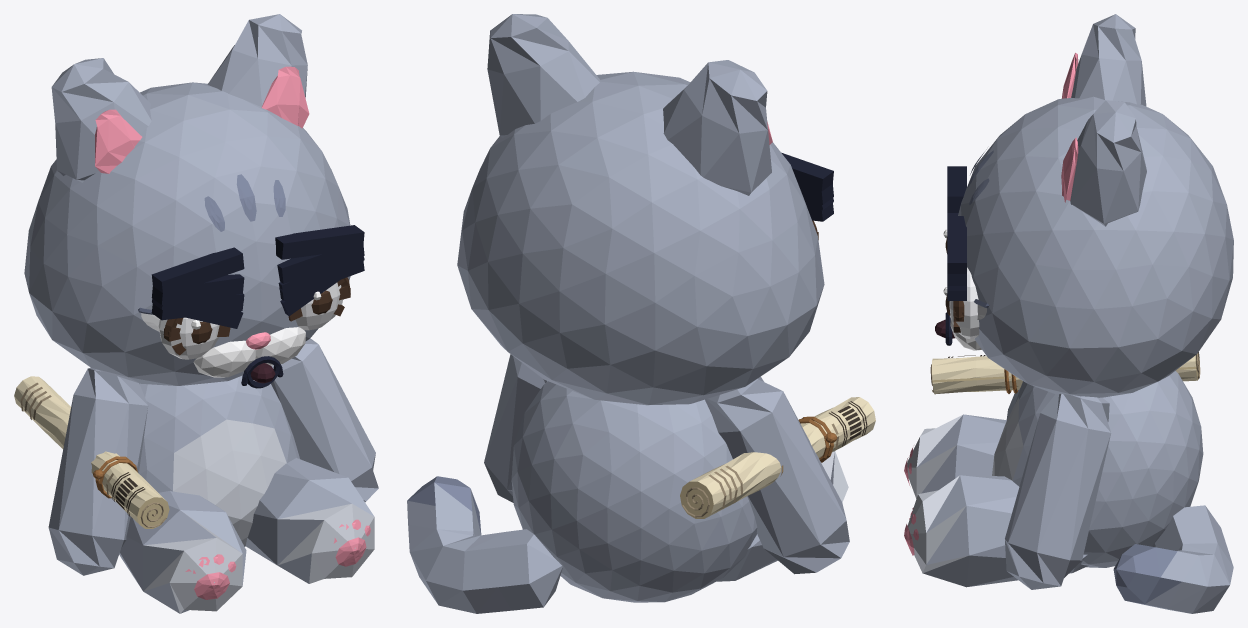
The model's file is Grump.glb.
3 renders of one model, left to right at view 1: azimuth 30°, elevation 25°; view 2: azimuth 150°, elevation 25°; view 3: azimuth 270°, elevation 25°, orthographic. The views are drawn at different scales.
Visible parts, largest first — view 1: Head, Body, Arm_R, Arm_L, Eyes_wide, Newspaper, Eyes_open, Eyes_happy, Eyes_closed, Eyes_hmpf, Eyes_squeeze; view 2: Head, Body, Arm_R, Tail, Newspaper, Arm_L, Eyes_wide; view 3: Head, Body, Arm_L, Tail, Newspaper, Eyes_wide, Eyes_happy.
Part boxes in pixels (<box>): Head: <box>24,14,350,385</box>; Body: <box>119,375,374,613</box>; Arm_R: <box>48,367,148,575</box>; Arm_L: <box>271,338,378,502</box>; Eyes_wide: <box>151,225,364,359</box>; Newspaper: <box>14,376,169,528</box>; Eyes_open: <box>138,245,364,331</box>; Eyes_happy: <box>151,240,364,339</box>; Eyes_closed: <box>151,260,364,341</box>; Eyes_hmpf: <box>163,259,363,338</box>; Eyes_squeeze: <box>152,260,364,355</box>; Head: <box>457,14,824,405</box>; Body: <box>511,381,848,602</box>; Arm_R: <box>705,376,849,574</box>; Tail: <box>407,476,562,613</box>; Newspaper: <box>680,397,875,518</box>; Arm_L: <box>484,354,547,502</box>; Eyes_wide: <box>781,152,833,191</box>; Head: <box>950,14,1233,397</box>; Body: <box>904,371,1203,587</box>; Arm_L: <box>1005,393,1110,589</box>; Tail: <box>1113,505,1233,613</box>; Newspaper: <box>930,352,1200,394</box>; Eyes_wide: <box>943,166,979,339</box>; Eyes_happy: <box>947,213,966,320</box>.
Size of the model in its own units: 0.6552 by 0.9418 by 0.5732.
